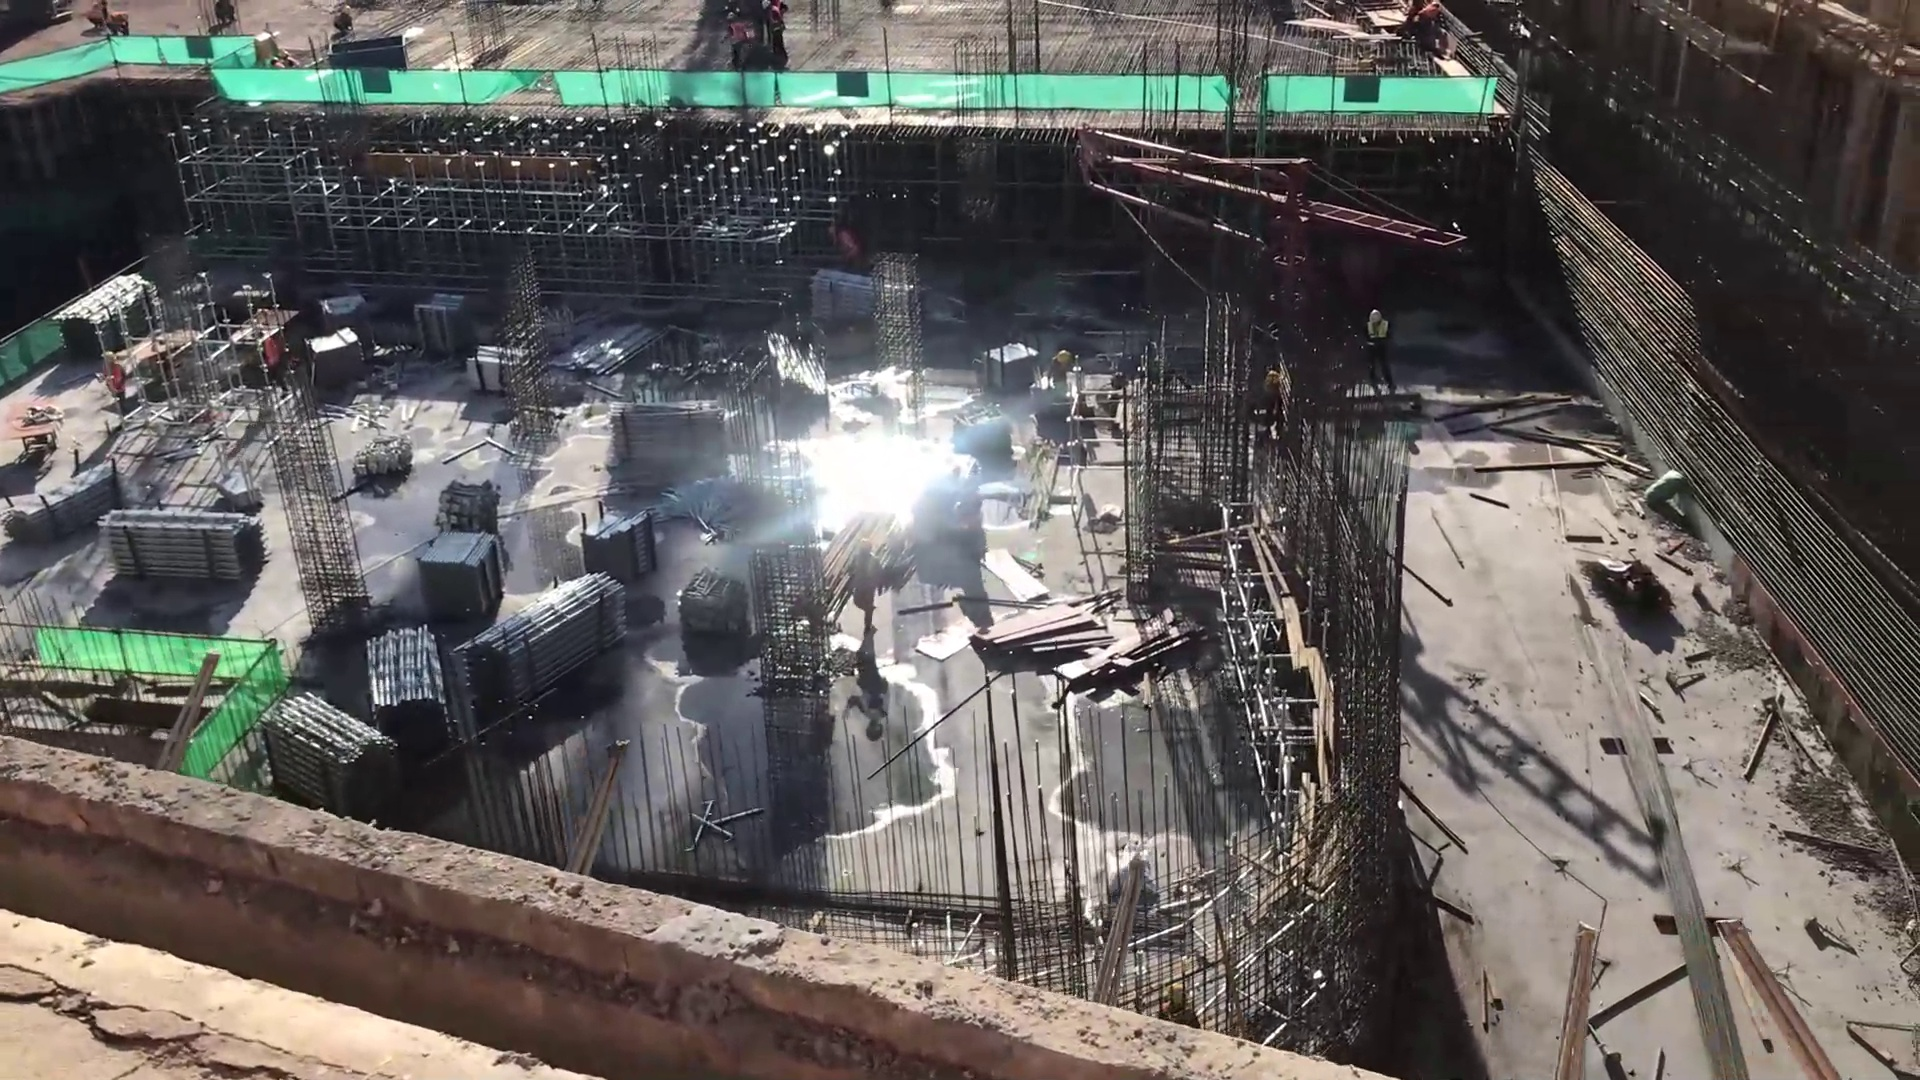scaffold: (435, 572, 633, 709), (251, 676, 402, 816), (78, 489, 265, 600), (603, 382, 746, 469), (339, 615, 433, 742), (397, 280, 488, 343), (465, 330, 535, 396)
